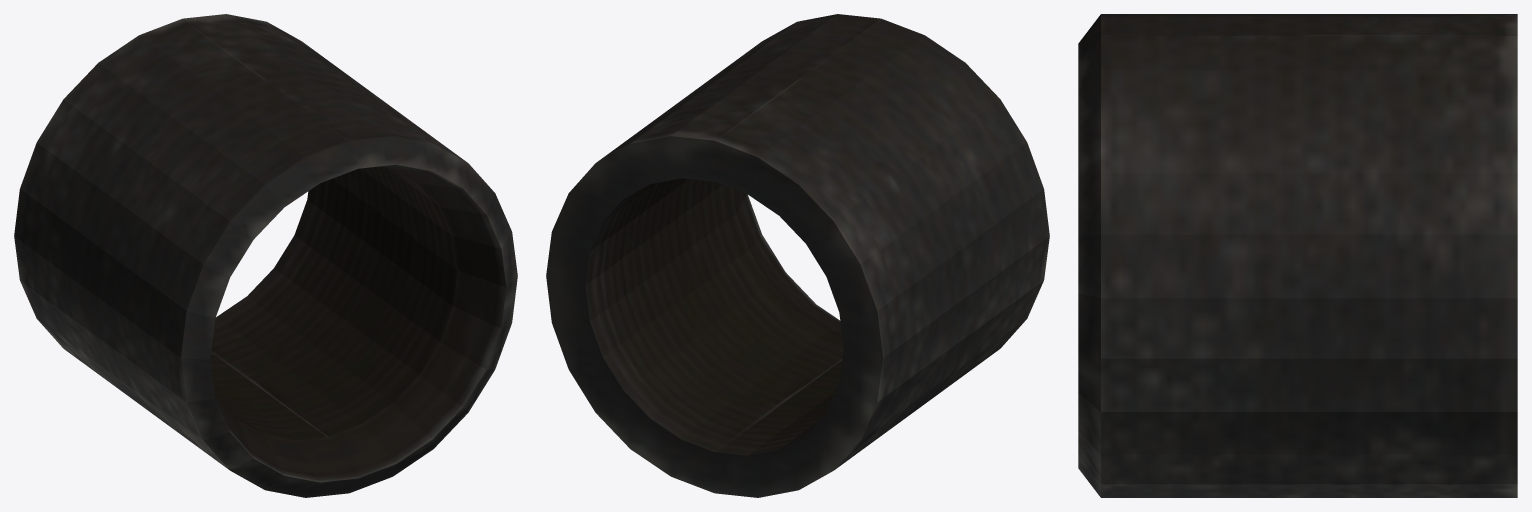
3 views of the same model, side by side, from view 1: azimuth 30°, elevation 25°; view 2: azimuth 150°, elevation 25°; view 3: azimuth 270°, elevation 25° (orthographic). The views are drawn at different scales.
Visible parts, largest first — view 1: TW_5de6556a205ddc616a6bc4f7_PZ_Import; view 2: TW_5de6556a205ddc616a6bc4f7_PZ_Import; view 3: TW_5de6556a205ddc616a6bc4f7_PZ_Import.
Boxes of the visible parts, <box> form: TW_5de6556a205ddc616a6bc4f7_PZ_Import: <box>14,14,517,497</box>; TW_5de6556a205ddc616a6bc4f7_PZ_Import: <box>546,14,1049,497</box>; TW_5de6556a205ddc616a6bc4f7_PZ_Import: <box>1078,14,1517,497</box>.
Bounding box in the file's own units: 0.0103 × 0.00934 × 0.0103.
Materials: 1 (1 with a texture image).
